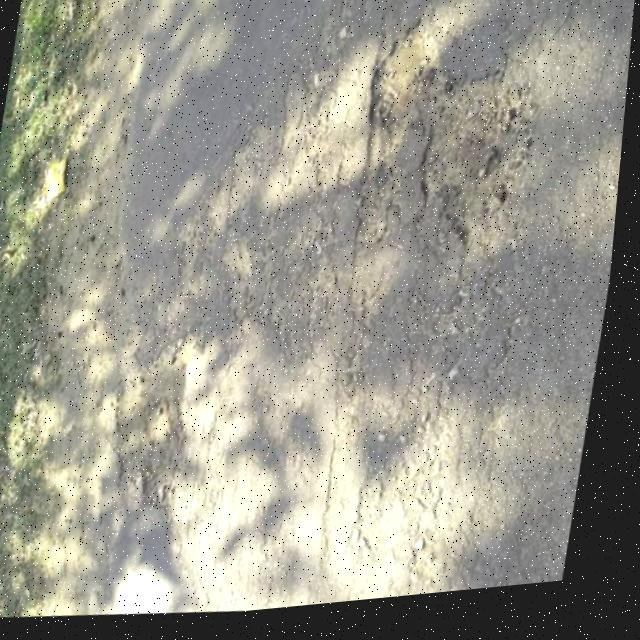Pothole: (408, 66, 550, 261), (104, 330, 212, 527), (361, 21, 447, 149)
